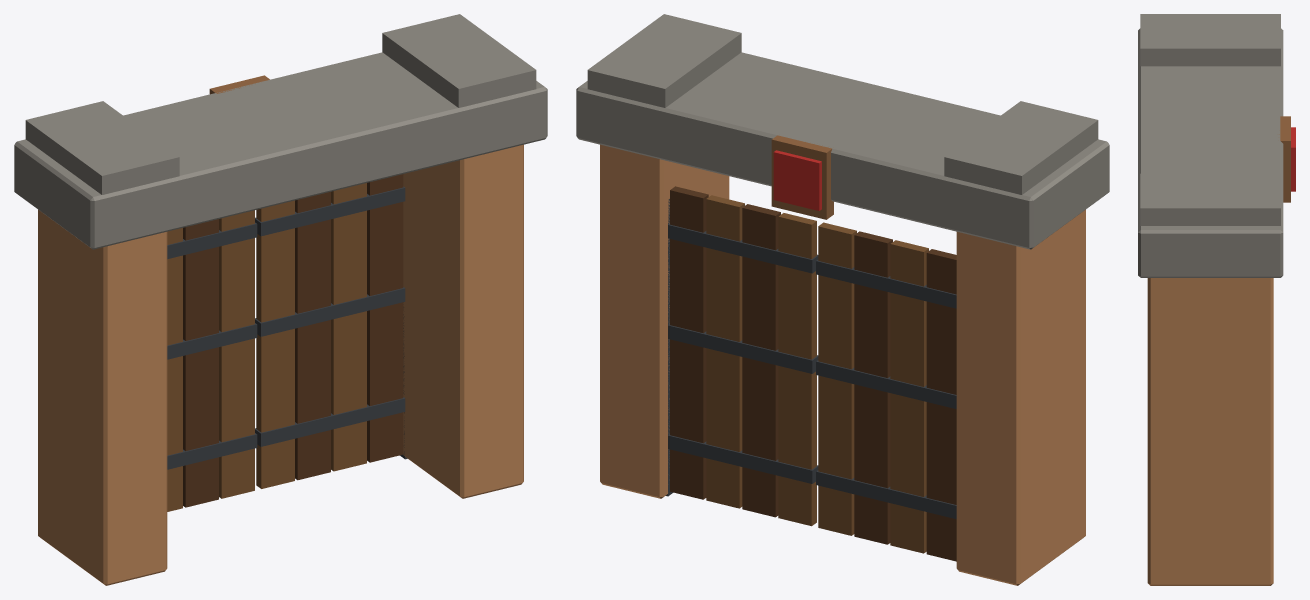
File: SM_ProvGate.fbx
The picture shows the model from 3 angles, left to right: view 1: azimuth 30°, elevation 25°; view 2: azimuth 150°, elevation 25°; view 3: azimuth 270°, elevation 25°; orthographic projection. The views are drawn at different scales.
Parts seen in each view (by area): view 1: SM_ProvGate_Frame, DoorL, DoorR; view 2: SM_ProvGate_Frame, DoorL, DoorR; view 3: SM_ProvGate_Frame.
Boxes of the visible parts, x1,y1,x2,y2 form: SM_ProvGate_Frame: (14,14,547,585); DoorL: (255,174,407,488); DoorR: (167,210,257,511); SM_ProvGate_Frame: (576,14,1109,585); DoorL: (665,186,818,526); DoorR: (816,222,956,561); SM_ProvGate_Frame: (1138,14,1295,585).
Size of the model in its own units: 5 by 1.63 by 4.35.
